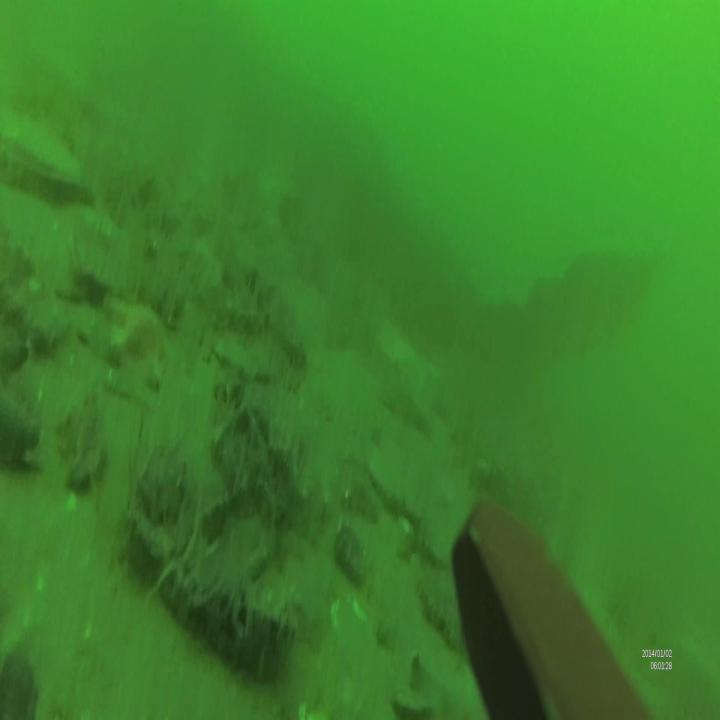scallop: (0, 104, 84, 201)
starfish: (103, 285, 171, 381)
